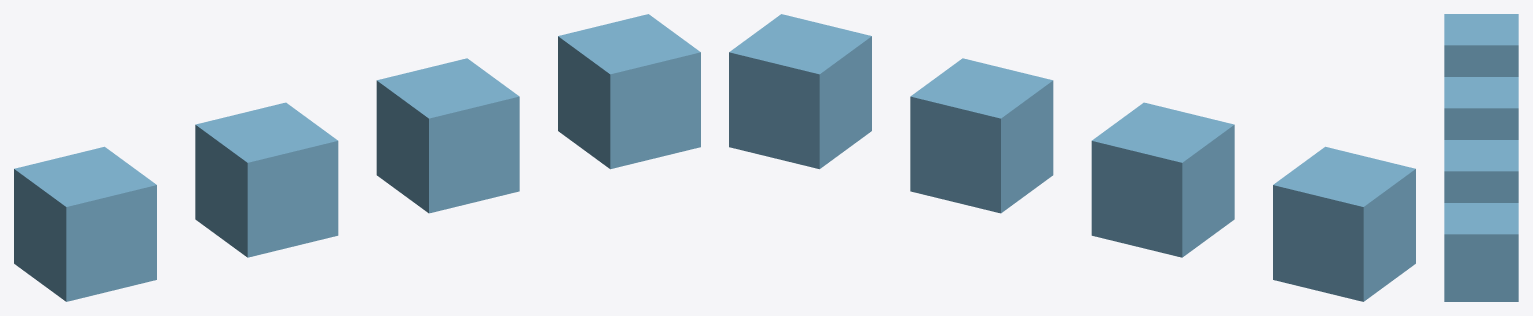
3 renders of one model, left to right at view 1: azimuth 30°, elevation 25°; view 2: azimuth 150°, elevation 25°; view 3: azimuth 270°, elevation 25°, orthographic. The views are drawn at different scales.
Parts seen in each view (by area): view 1: Auth, Orders, API Gateway, Queue; view 2: Auth, Orders, API Gateway, Queue; view 3: Queue, API Gateway, Auth, Orders.
Boxes of the visible parts, x1,y1,x2,y2 form: Auth: (195,102,338,257); Orders: (376,58,519,213); API Gateway: (14,146,156,301); Queue: (558,14,700,169); Auth: (1091,102,1234,257); Orders: (910,58,1053,213); API Gateway: (1273,146,1415,301); Queue: (729,14,871,169); Queue: (1444,203,1518,301); API Gateway: (1444,14,1518,76); Auth: (1444,77,1518,139); Orders: (1444,140,1518,202).
Size of the model in its own units: 4.9 by 0.7 by 0.7.
